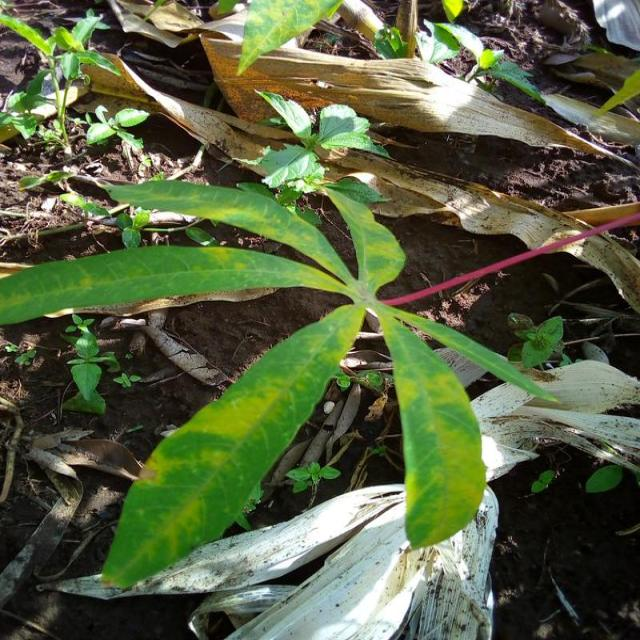cassava leaf: (100, 301, 366, 590)
